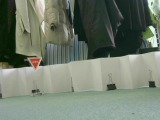stop: (25, 56, 44, 72)
